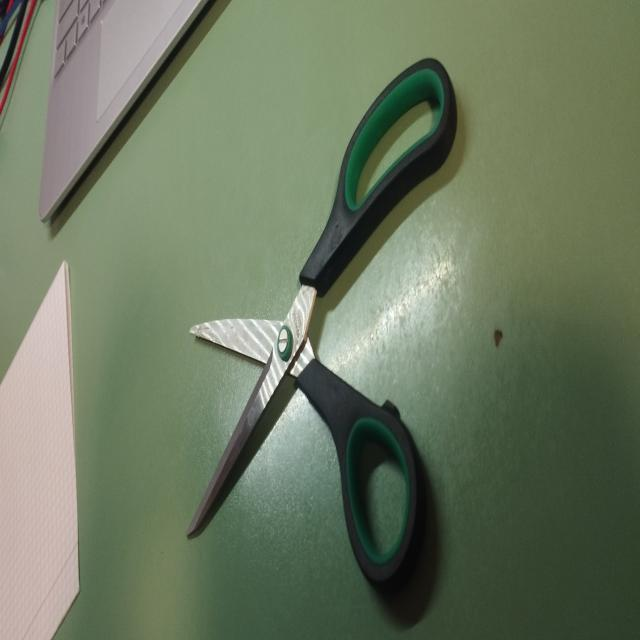tesoura: (188, 48, 458, 602)
